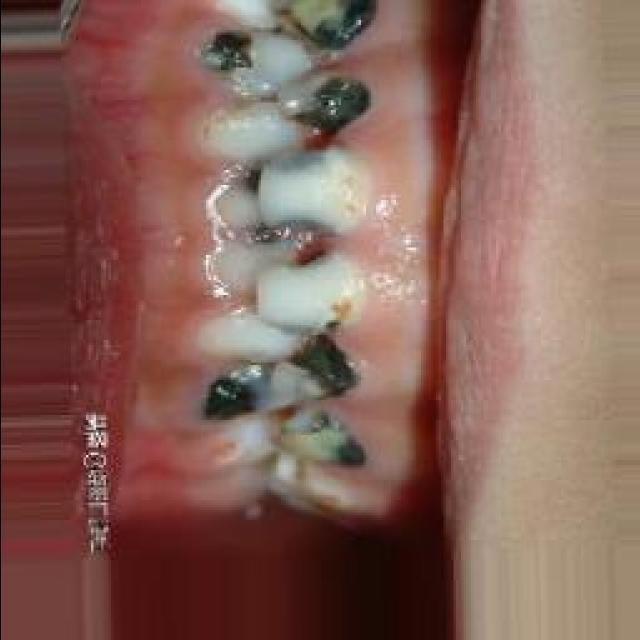caries: (195, 0, 410, 475)
